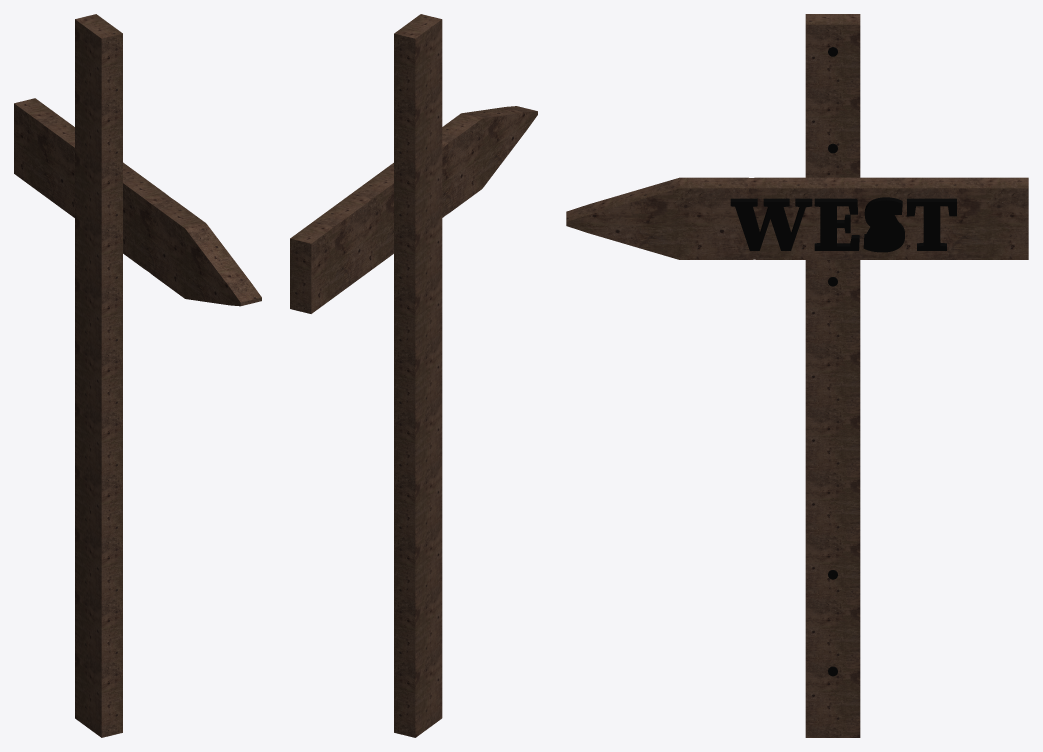
File: fbxSign.fbx
3 views of the same model, side by side, from view 1: azimuth 30°, elevation 25°; view 2: azimuth 150°, elevation 25°; view 3: azimuth 270°, elevation 25° (orthographic). The views are drawn at different scales.
Visible parts, largest first — view 1: wood; view 2: wood; view 3: wood, west1.
Boxes of the visible parts, x1=… form: wood: x1=14, y1=14, x2=261, y2=737; wood: x1=290, y1=14, x2=537, y2=737; wood: x1=566, y1=14, x2=1028, y2=737; west1: x1=730, y1=197, x2=956, y2=252.
Size of the model in its own units: 0.2613 by 3.54 by 2.08.
2 materials, 1 textured.
